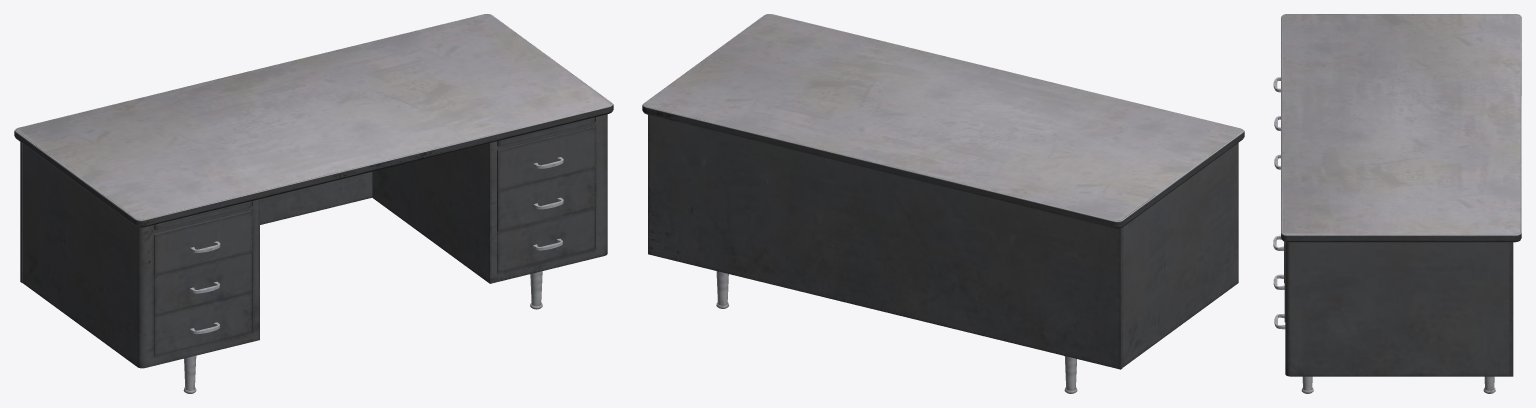
File: metal_office_desk.glb
3 renders of one model, left to right at view 1: azimuth 30°, elevation 25°; view 2: azimuth 150°, elevation 25°; view 3: azimuth 270°, elevation 25°, orthographic. The views are drawn at different scales.
Parts seen in each view (by area): view 1: metal_office_desk_drawer_06; view 2: metal_office_desk_drawer_06; view 3: metal_office_desk_drawer_06.
Boxes of the visible parts, box(x1,y1,x2,y2) form: metal_office_desk_drawer_06: box(14, 14, 613, 393); metal_office_desk_drawer_06: box(642, 14, 1244, 393); metal_office_desk_drawer_06: box(1273, 14, 1521, 393).
Bounding box in the file's own units: 2 × 0.7875 × 0.947.
1 material, 1 textured.
